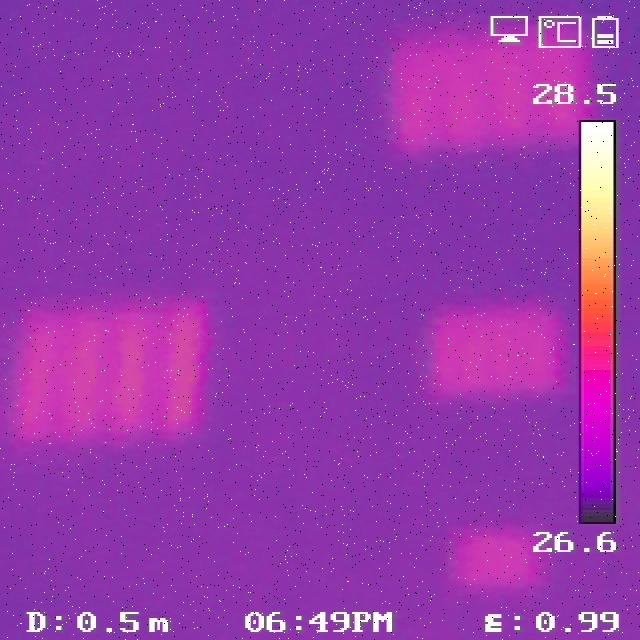Indistinguishable 4-bar target: (390, 16, 602, 146), (432, 296, 565, 393), (453, 519, 560, 594)
threshold 4-bar target: (18, 297, 210, 442)
